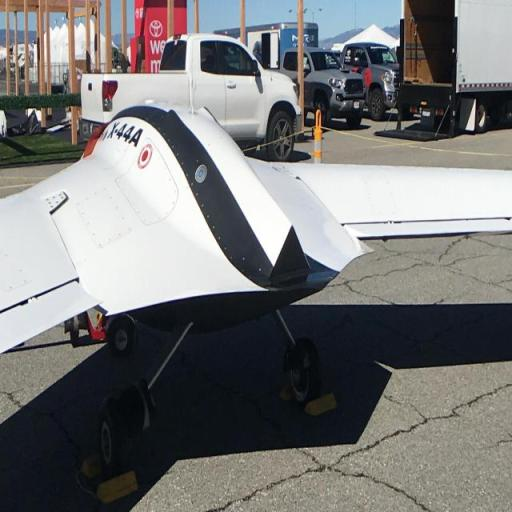uav: (1, 100, 512, 469)
